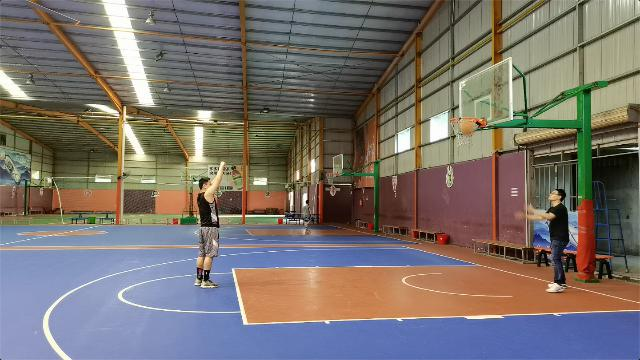ball: (462, 121, 472, 131)
basket: (449, 116, 477, 147)
